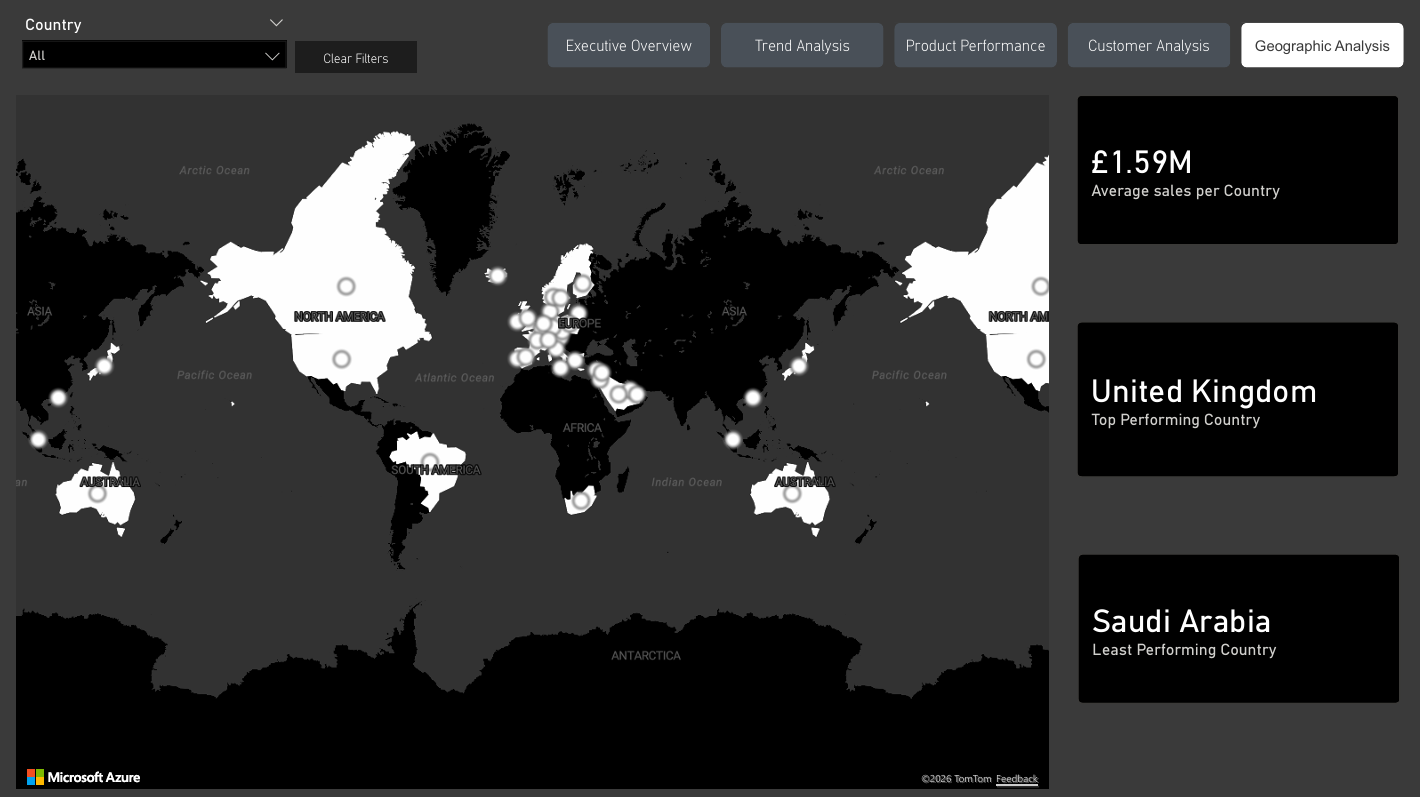

The dashboard page shown, as its layout file describes it:
{"tool":"powerbi","page":{"name":"Geographic Analysis","canvas":[1280,720],"ordinal":4},"visuals":[{"type":"slicer","fields":{"Values":["Sales.Country"]},"box":[11.4,8.6,257.1,64.3],"z":0},{"type":"actionButton","box":[267,37.5,108.8,28.8],"z":1000},{"type":"cardVisual","fields":{"Data":["Date.Average sales per Country"]},"box":[965,81.2,300,145],"z":2000},{"type":"cardVisual","fields":{"Data":["Customer.Top Performing Country"]},"box":[964.7,285,300,150],"z":3000},{"type":"cardVisual","fields":{"Data":["Customer.Least Performing Country"]},"box":[965.7,494.3,300,144.3],"z":4000},{"type":"azureMap","fields":{"Category":["Sales.Country"]},"box":[11.2,81.2,939.2,635],"z":5000},{"type":"pageNavigator","box":[493.8,21.2,770,40],"z":6000}]}

Visuals, with their boxes in screenshot pixels (x1, y1, x2, y2), scaled from the page's 1280x720 canvas onto the 1420x797 screenshot:
slicer - Sales.Country: <bbox>13, 10, 298, 81</bbox>
actionButton: <bbox>296, 42, 417, 73</bbox>
cardVisual - Date.Average sales per Country: <bbox>1071, 90, 1403, 250</bbox>
cardVisual - Customer.Top Performing Country: <bbox>1070, 315, 1403, 482</bbox>
cardVisual - Customer.Least Performing Country: <bbox>1071, 547, 1404, 707</bbox>
azureMap - Sales.Country: <bbox>12, 90, 1054, 793</bbox>
pageNavigator: <bbox>548, 23, 1402, 68</bbox>
